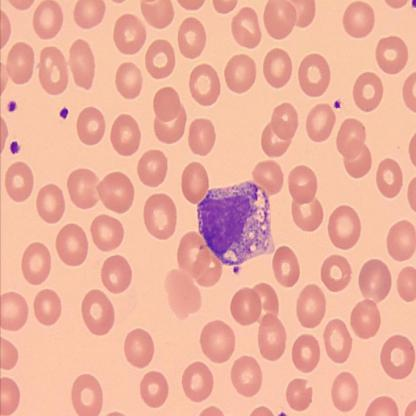Myelocyte: (197, 180, 277, 263)
